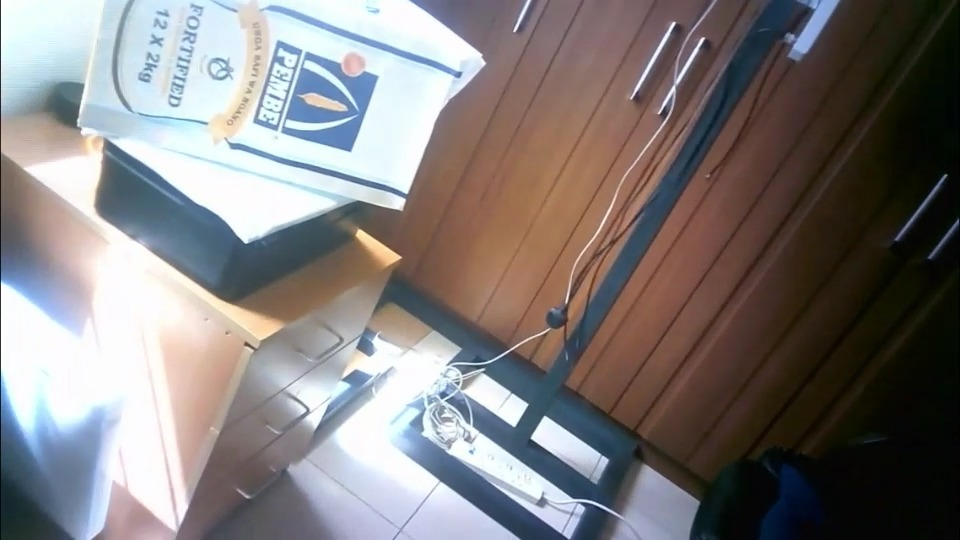wheat_flour_blue_label: (75, 2, 481, 206)
